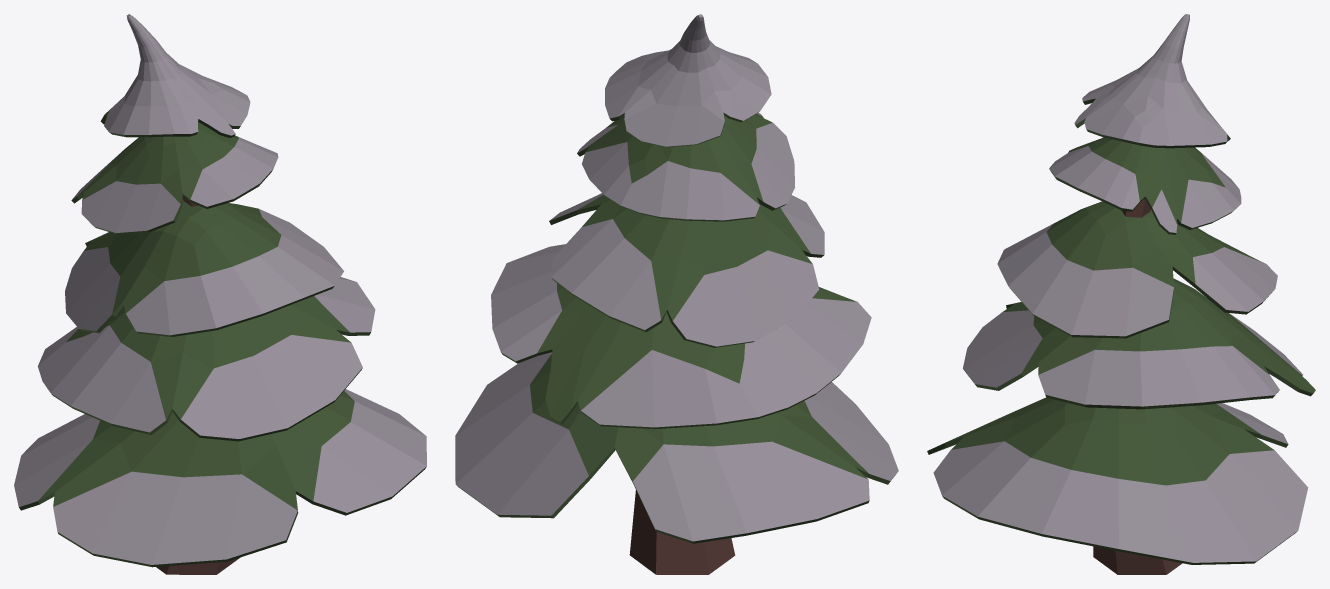
The model's file is PineTree_Snow_1.glb.
The picture shows the model from 3 angles, left to right: view 1: azimuth 30°, elevation 25°; view 2: azimuth 150°, elevation 25°; view 3: azimuth 270°, elevation 25°; orthographic projection. The views are drawn at different scales.
Parts seen in each view (by area): view 1: PineTree_Snow_1; view 2: PineTree_Snow_1; view 3: PineTree_Snow_1.
Boxes of the visible parts, <box> form: PineTree_Snow_1: <box>14,14,426,574</box>; PineTree_Snow_1: <box>455,14,898,574</box>; PineTree_Snow_1: <box>927,14,1315,574</box>.
Bounding box in the file's own units: 1.96 × 2.7 × 1.82.
